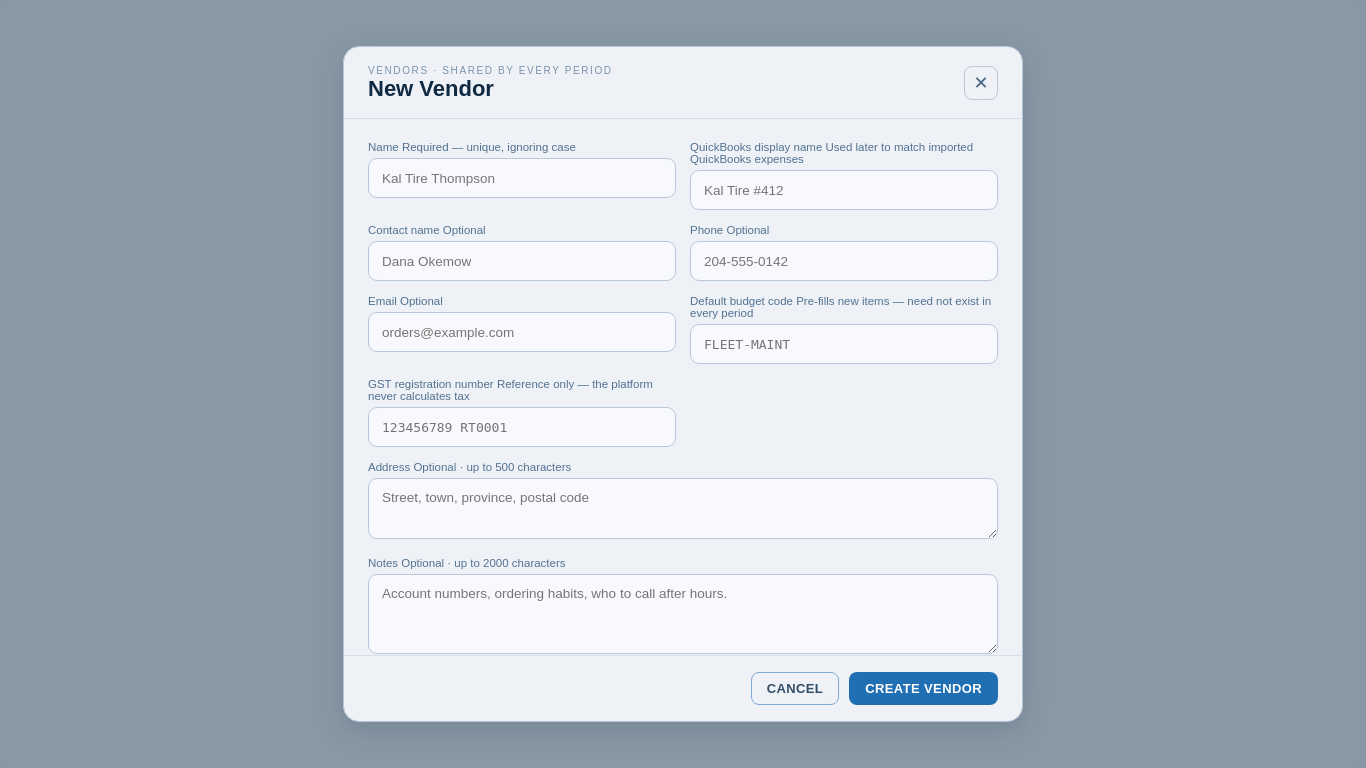
VendorFormModal — create › shows a server 409 verbatim when the register it was given was stale
The image size is (1366, 768).
Step 1. Type "Esso Thompson" into the field with placeholder "Kal Tire Thompson" → coordinates (522, 178), box [368, 158, 676, 198]
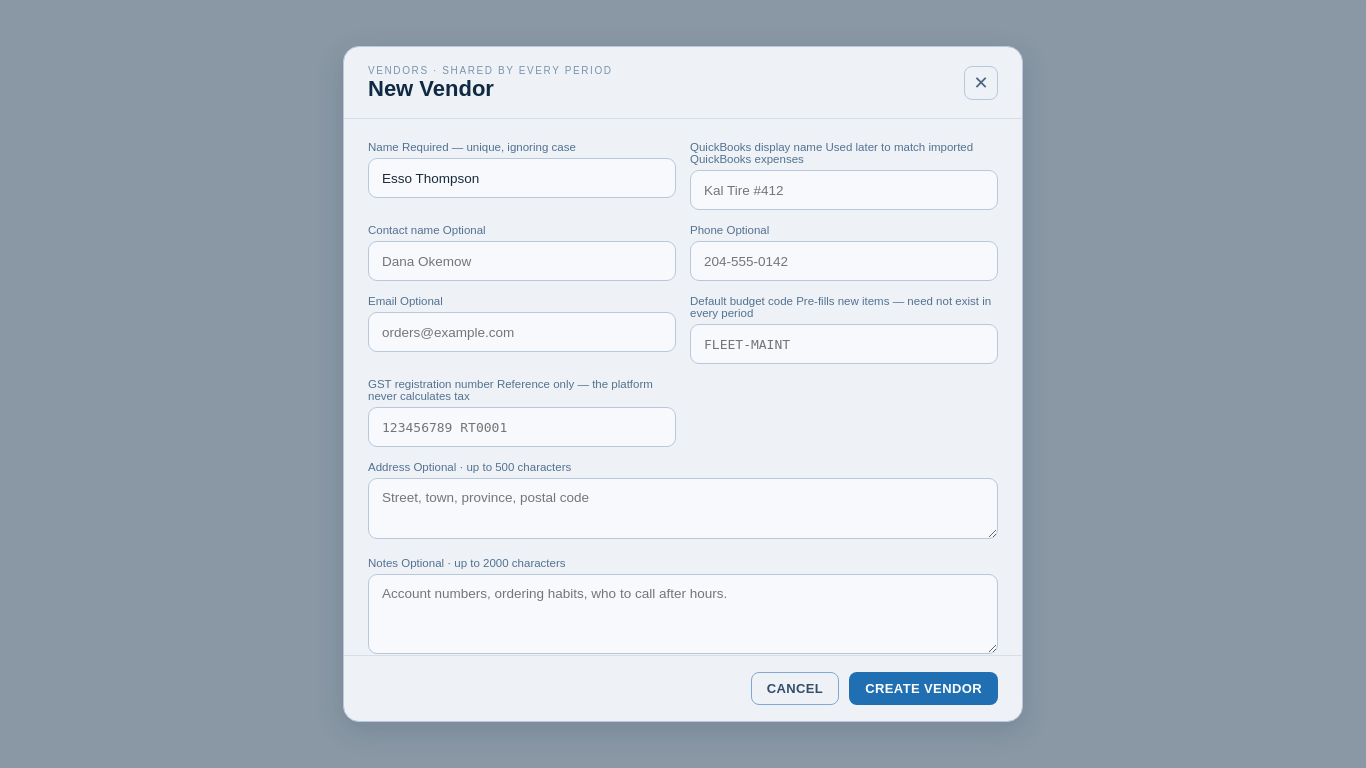
Step 2. Click the text "CREATE VENDOR" → coordinates (924, 688), box [849, 672, 998, 705]
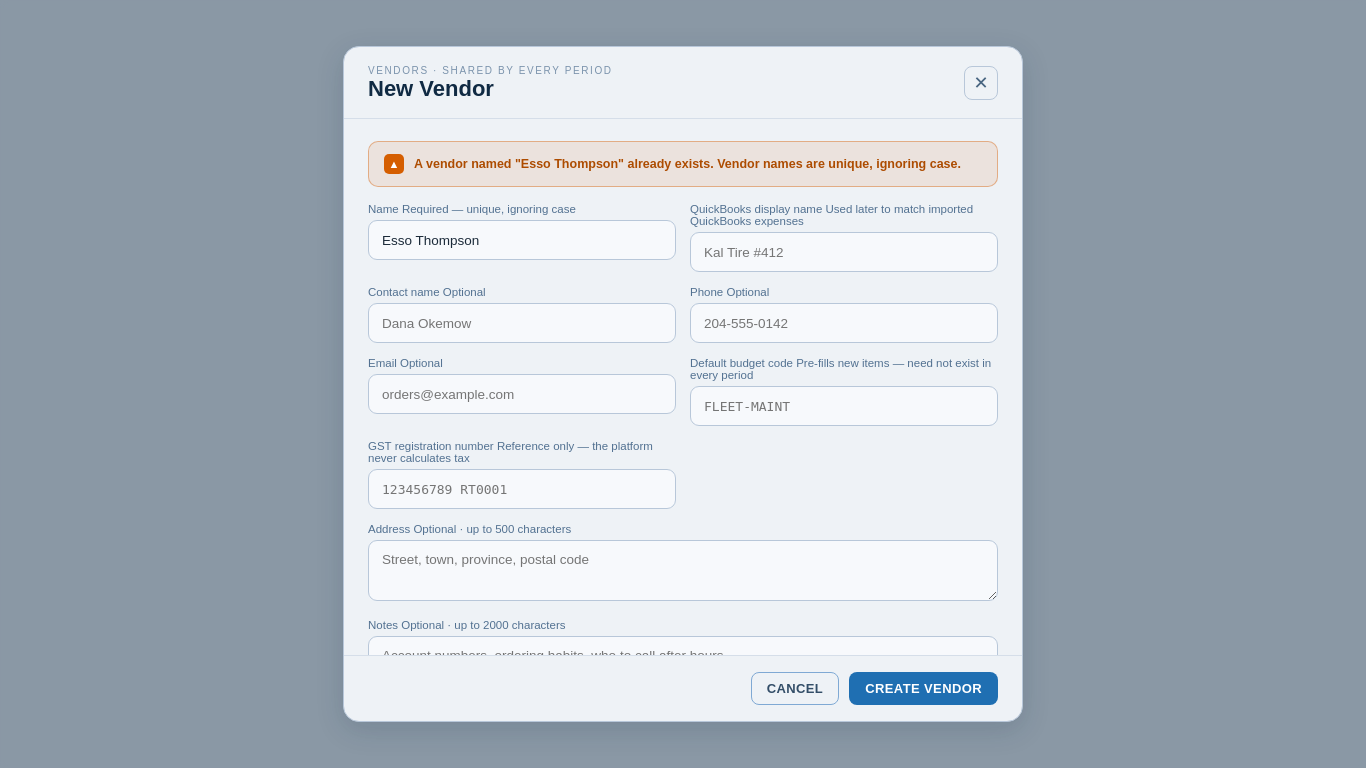
Result: the text "A vendor named \"Esso Thompson\" already exists. Vendor names are unique, ignoring case." is shown at [414, 157, 961, 171]
